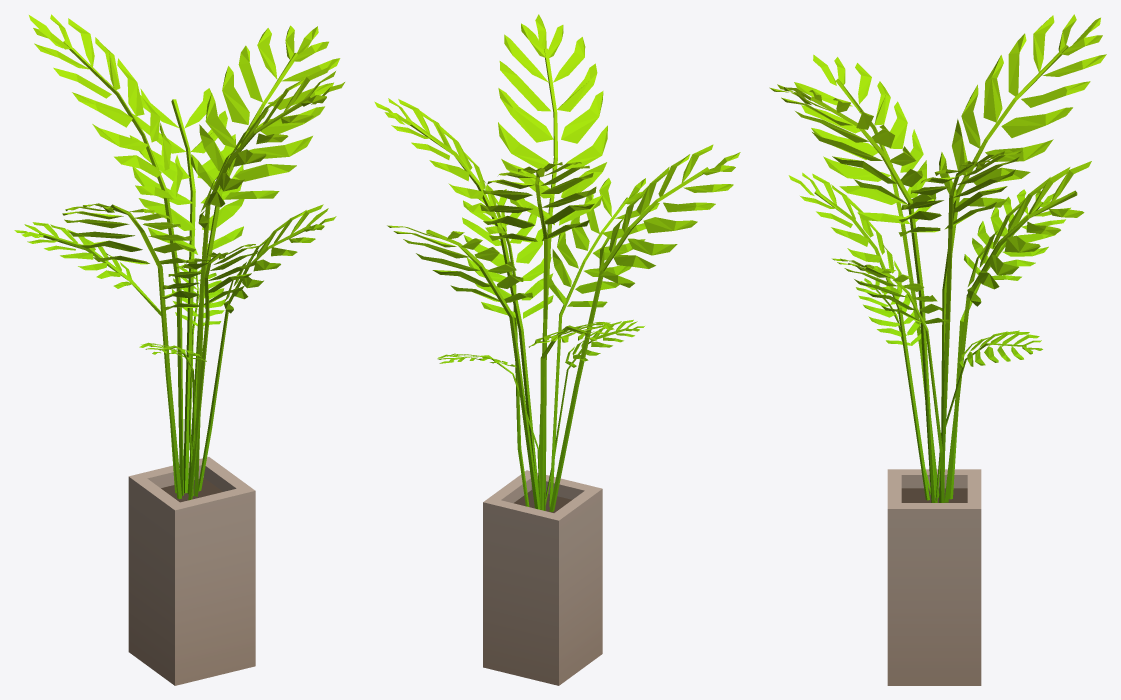
Rendered from Plant_Tall_Laundromat.fbx.
3 views of the same model, side by side, from view 1: azimuth 30°, elevation 25°; view 2: azimuth 150°, elevation 25°; view 3: azimuth 270°, elevation 25° (orthographic). The views are drawn at different scales.
Visible parts, largest first — view 1: Plant_Tall.Laundromat; view 2: Plant_Tall.Laundromat; view 3: Plant_Tall.Laundromat.
Boxes of the visible parts, bbox=[...] form: Plant_Tall.Laundromat: bbox=[14, 14, 344, 685]; Plant_Tall.Laundromat: bbox=[374, 14, 740, 685]; Plant_Tall.Laundromat: bbox=[769, 14, 1106, 685].
Size of the model in its own units: 113 by 209 by 103.
1 material, 1 textured.
